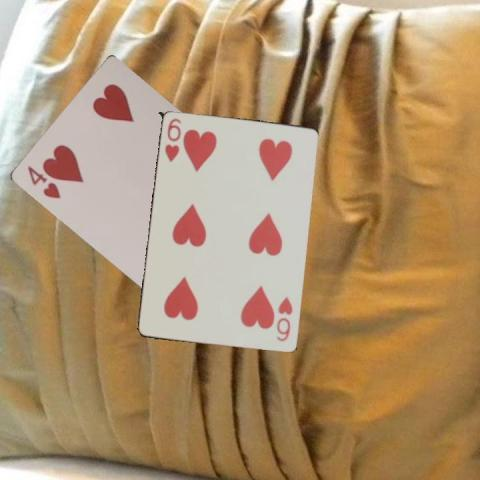4h: (23, 162, 62, 200)
6h: (273, 294, 294, 343), (162, 116, 182, 165)
